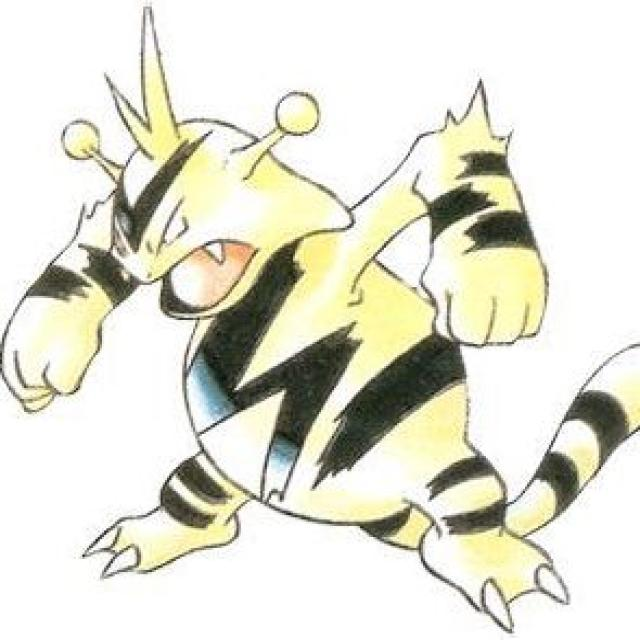Electabuzz: (6, 79, 588, 606)
